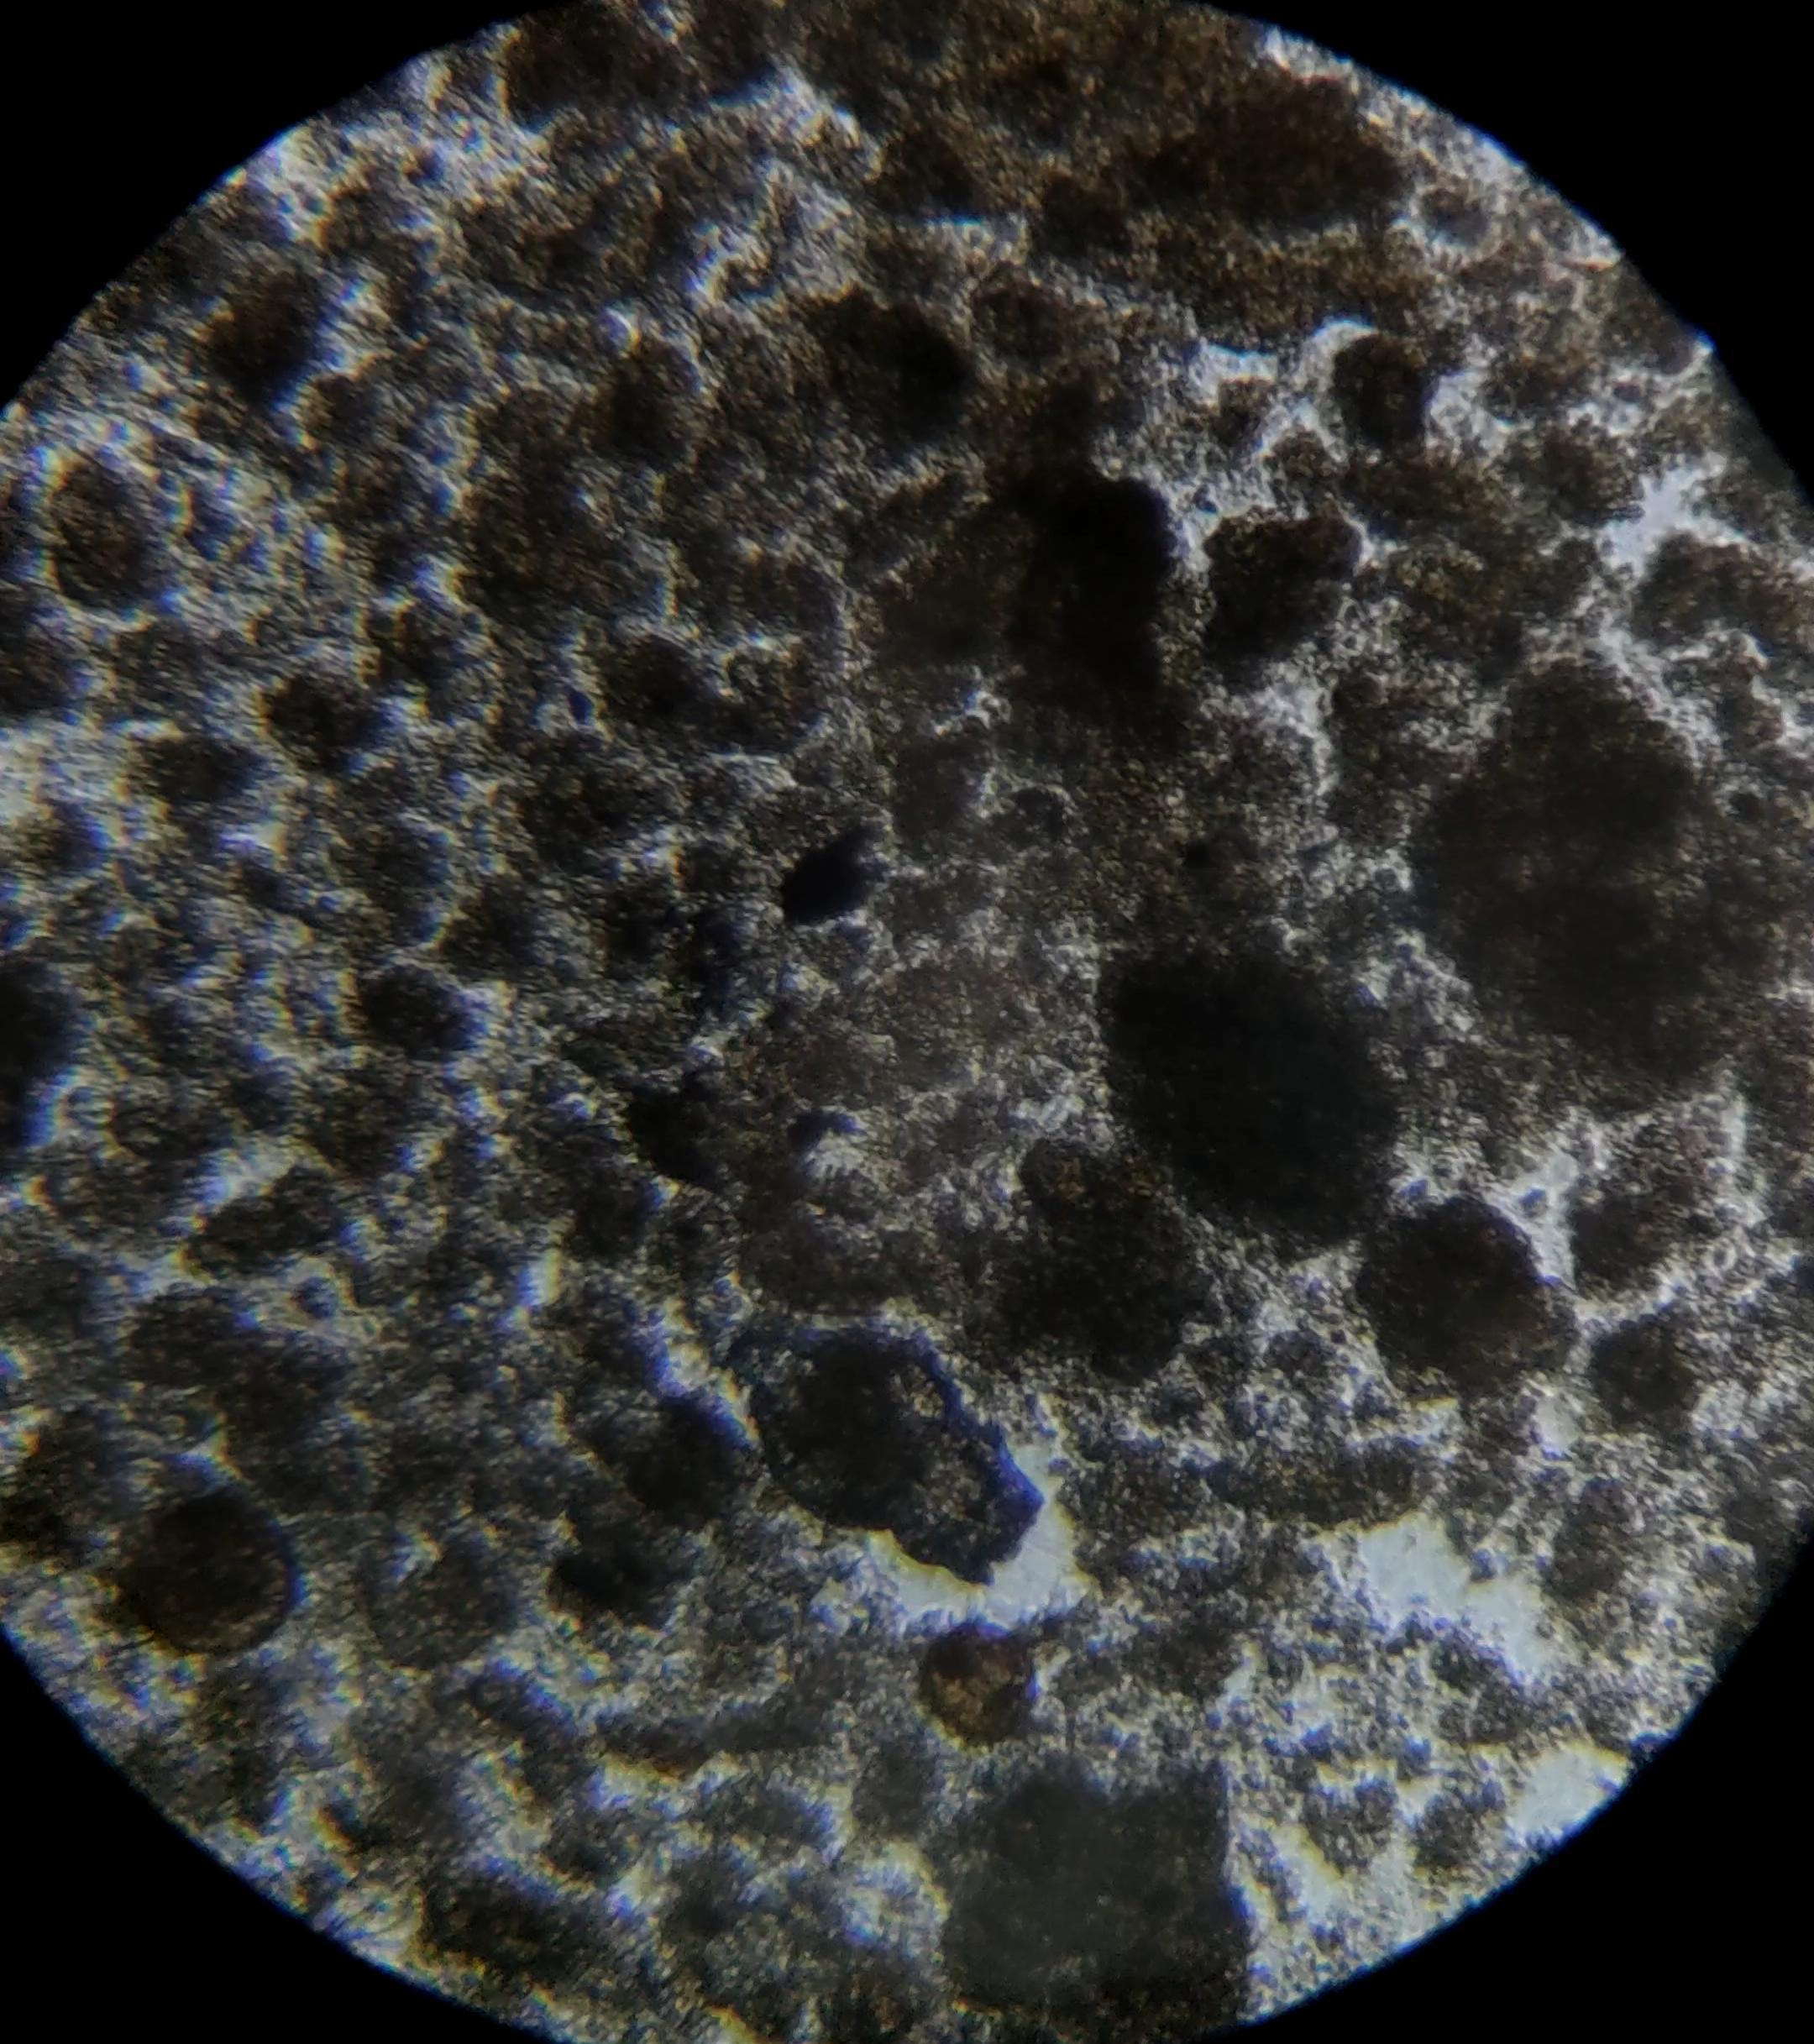Arcella: (135, 1499, 289, 1655), (926, 1622, 1033, 1743)
Do: (683, 1282, 1045, 1587)
